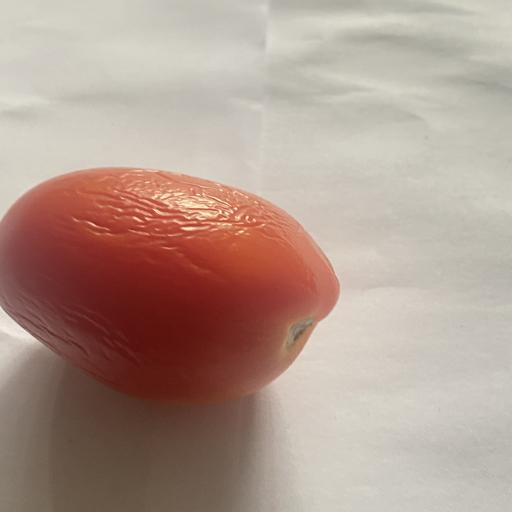spoiled: (0, 167, 339, 404)
